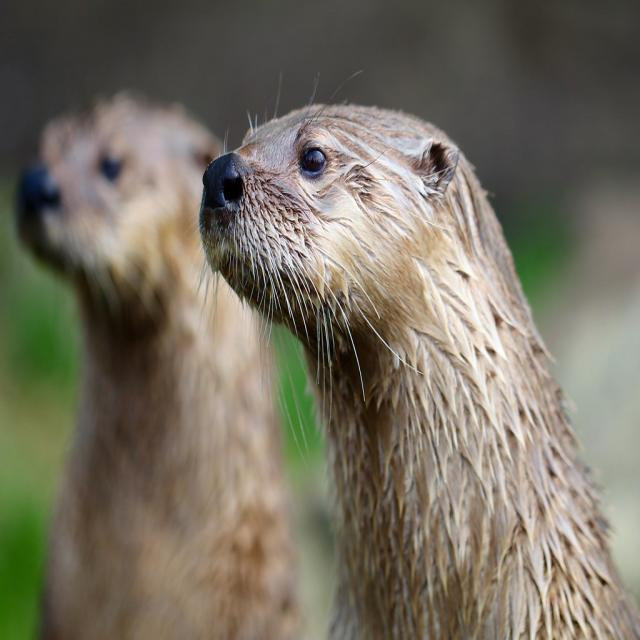otter: (202, 105, 555, 546)
